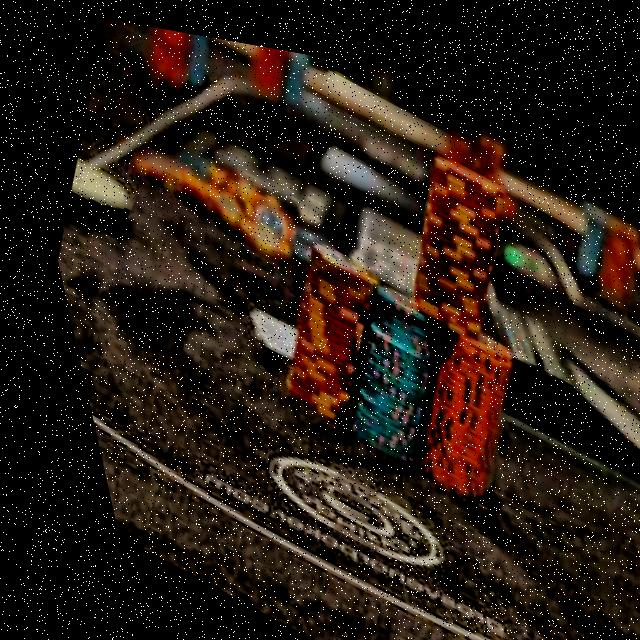Chip: (359, 282, 538, 510), (229, 209, 406, 435), (293, 255, 470, 481), (361, 122, 537, 341)
